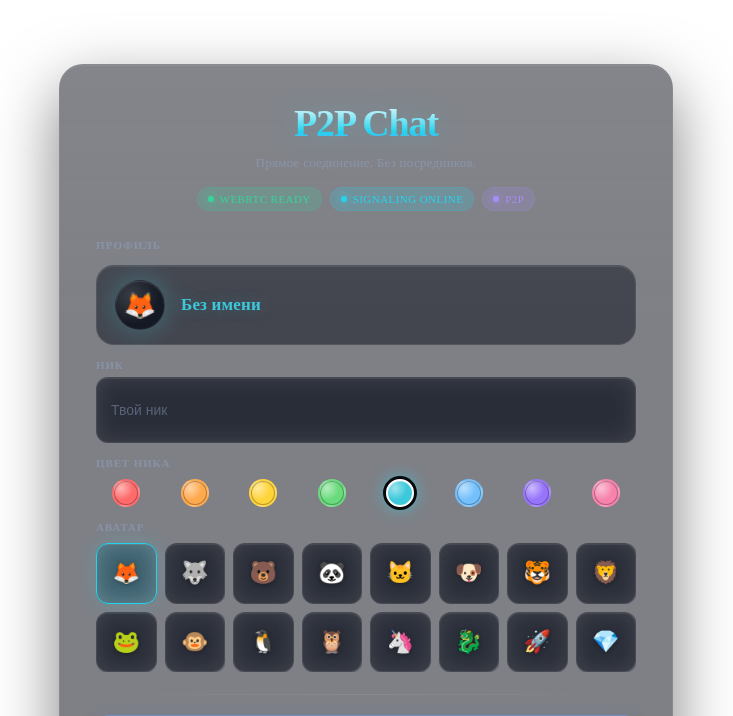
Test: Lobby › невалидный ID комнаты — показывает ошибку, не уводит со страницы
The image size is (733, 716).
Type "Никита" into the field labelled "Ник". click: [366, 410]
box: left=96, top=377, right=636, bottom=443
(page scrolled)
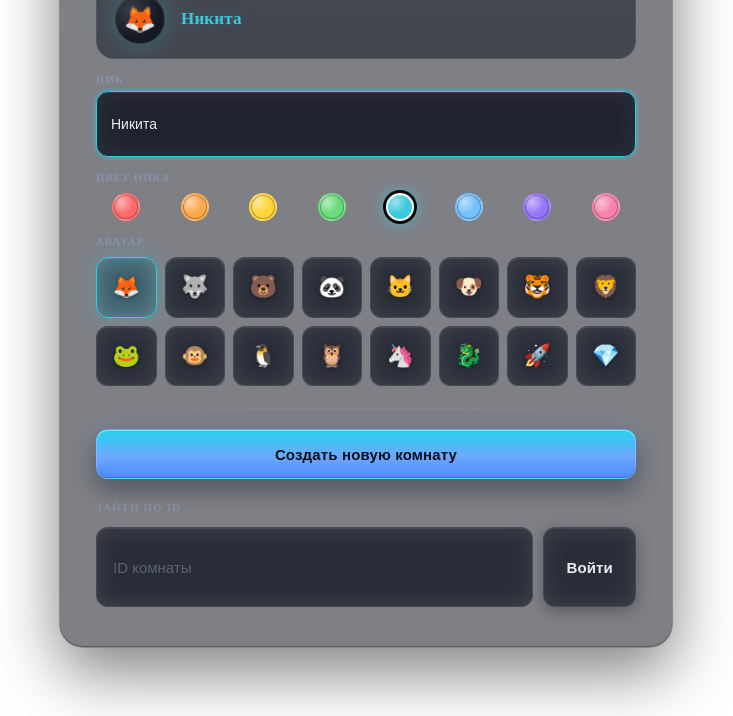
Type "!!!" into the field with placeholder "ID комнаты". click: [315, 567]
box: left=96, top=527, right=534, bottom=607
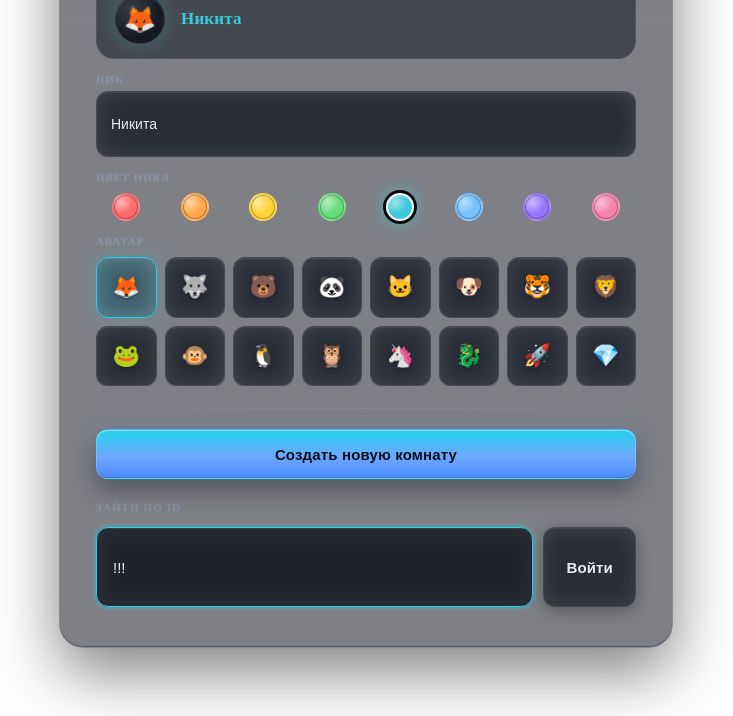
Click the button "Войти". click: [590, 567]
box: left=544, top=527, right=636, bottom=607
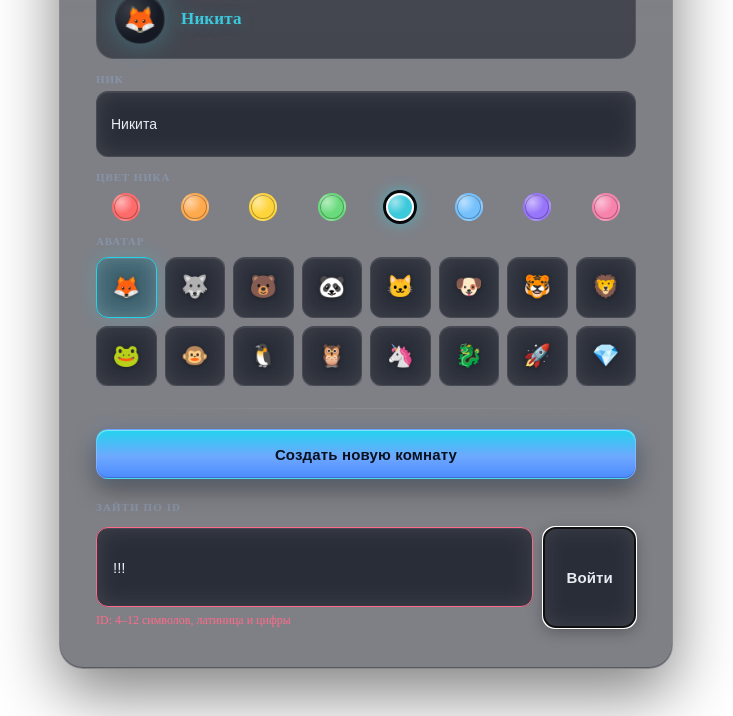
Now the message shows "ID", box left=96, top=613, right=291, bottom=627
